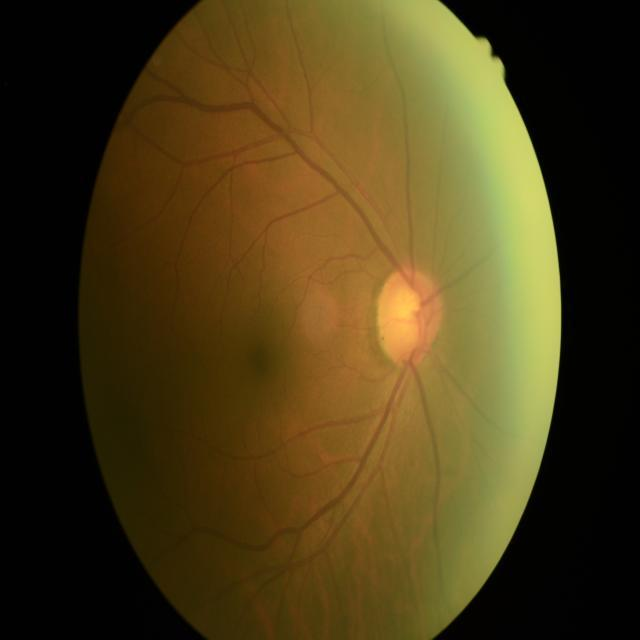cup: (388, 286, 428, 350)
disk: (378, 262, 443, 364)
